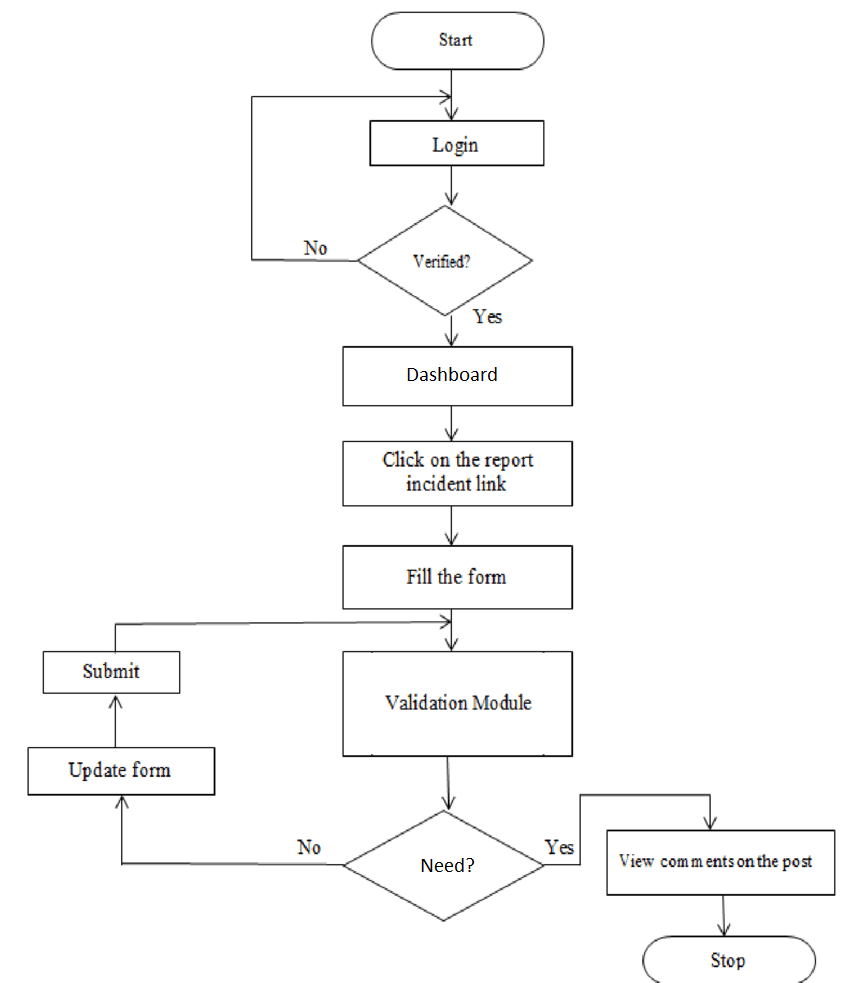arrow: (246, 88, 454, 264), (110, 793, 349, 870), (107, 612, 458, 658), (542, 790, 722, 870), (710, 888, 739, 940), (104, 691, 128, 748), (439, 760, 461, 807), (440, 609, 461, 654), (443, 72, 461, 119), (442, 161, 461, 203), (442, 401, 461, 443), (442, 503, 461, 545), (442, 310, 460, 349)
decision: (337, 807, 549, 922), (352, 200, 533, 321)
process: (336, 646, 579, 763), (601, 825, 840, 898), (337, 437, 579, 509), (337, 542, 579, 613), (339, 340, 577, 409), (24, 740, 219, 800), (366, 116, 549, 170), (37, 646, 186, 698)
terminator: (364, 6, 546, 73), (637, 931, 823, 983)
text: (379, 445, 536, 493), (616, 848, 818, 870), (380, 688, 537, 715), (64, 754, 173, 784), (401, 564, 512, 588), (403, 361, 500, 385), (409, 249, 476, 272), (416, 854, 479, 878), (80, 658, 145, 681), (427, 133, 482, 157), (703, 946, 749, 972), (545, 834, 579, 858), (301, 236, 333, 261), (436, 28, 474, 49), (294, 836, 327, 858), (472, 307, 506, 325)
